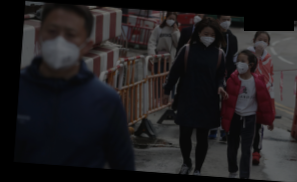with_mask: (39, 21, 85, 72), (199, 29, 215, 47), (235, 56, 249, 74), (254, 35, 268, 49), (219, 16, 232, 29), (165, 14, 176, 26), (192, 13, 203, 23)
